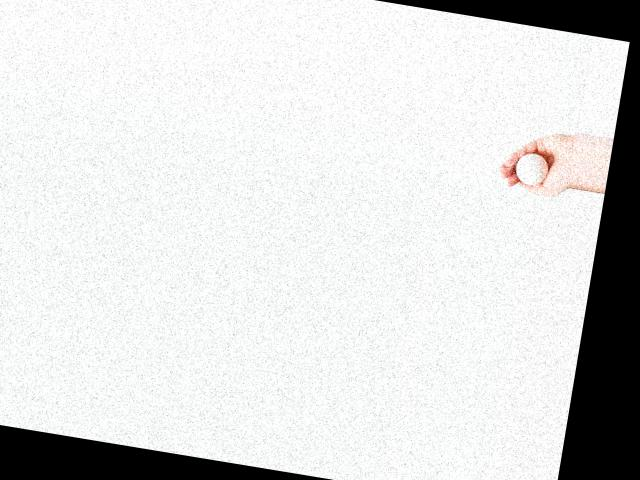egg: (513, 150, 549, 186)
